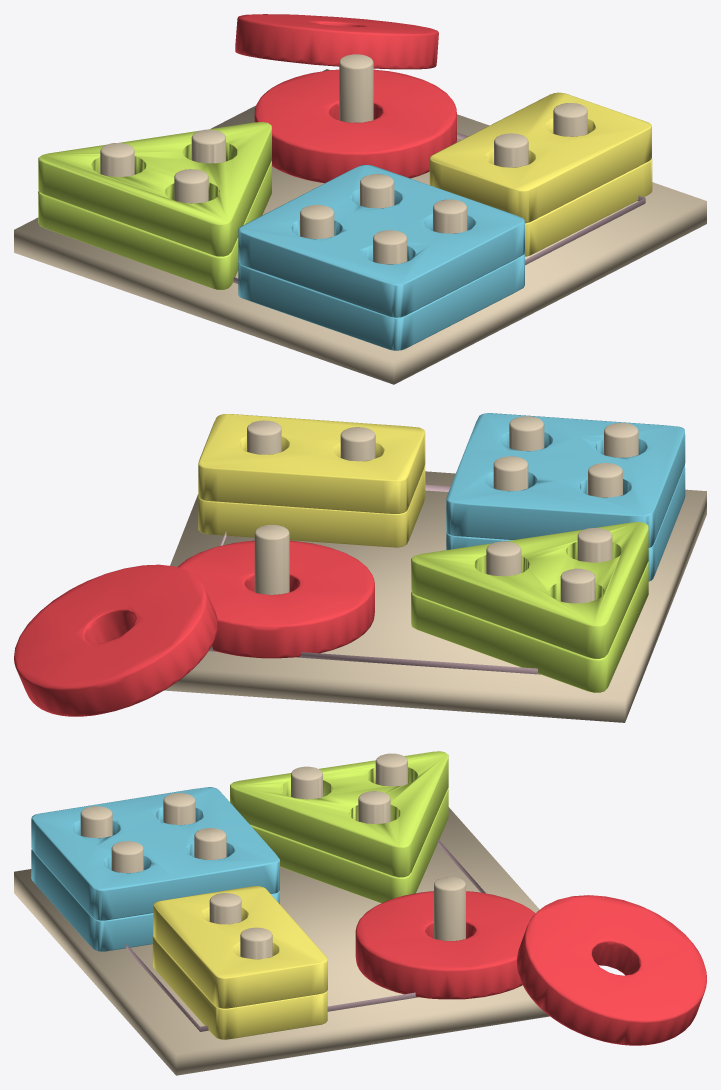
The model's file is giochino_LODs.fbx.
3 renders of one model, top to bottom at view 1: azimuth 30°, elevation 25°; view 2: azimuth 150°, elevation 25°; view 3: azimuth 270°, elevation 25°, orthographic. The views are drawn at different scales.
Parts seen in each view (by area): view 1: giochino_LOD0; view 2: giochino_LOD0; view 3: giochino_LOD0.
Boxes of the visible parts, <box> form: giochino_LOD0: <box>14,14,706,384</box>; giochino_LOD0: <box>14,413,706,722</box>; giochino_LOD0: <box>14,751,706,1075</box>.
Size of what is drawn, in the model's own units: 1488 by 281 by 1737.
